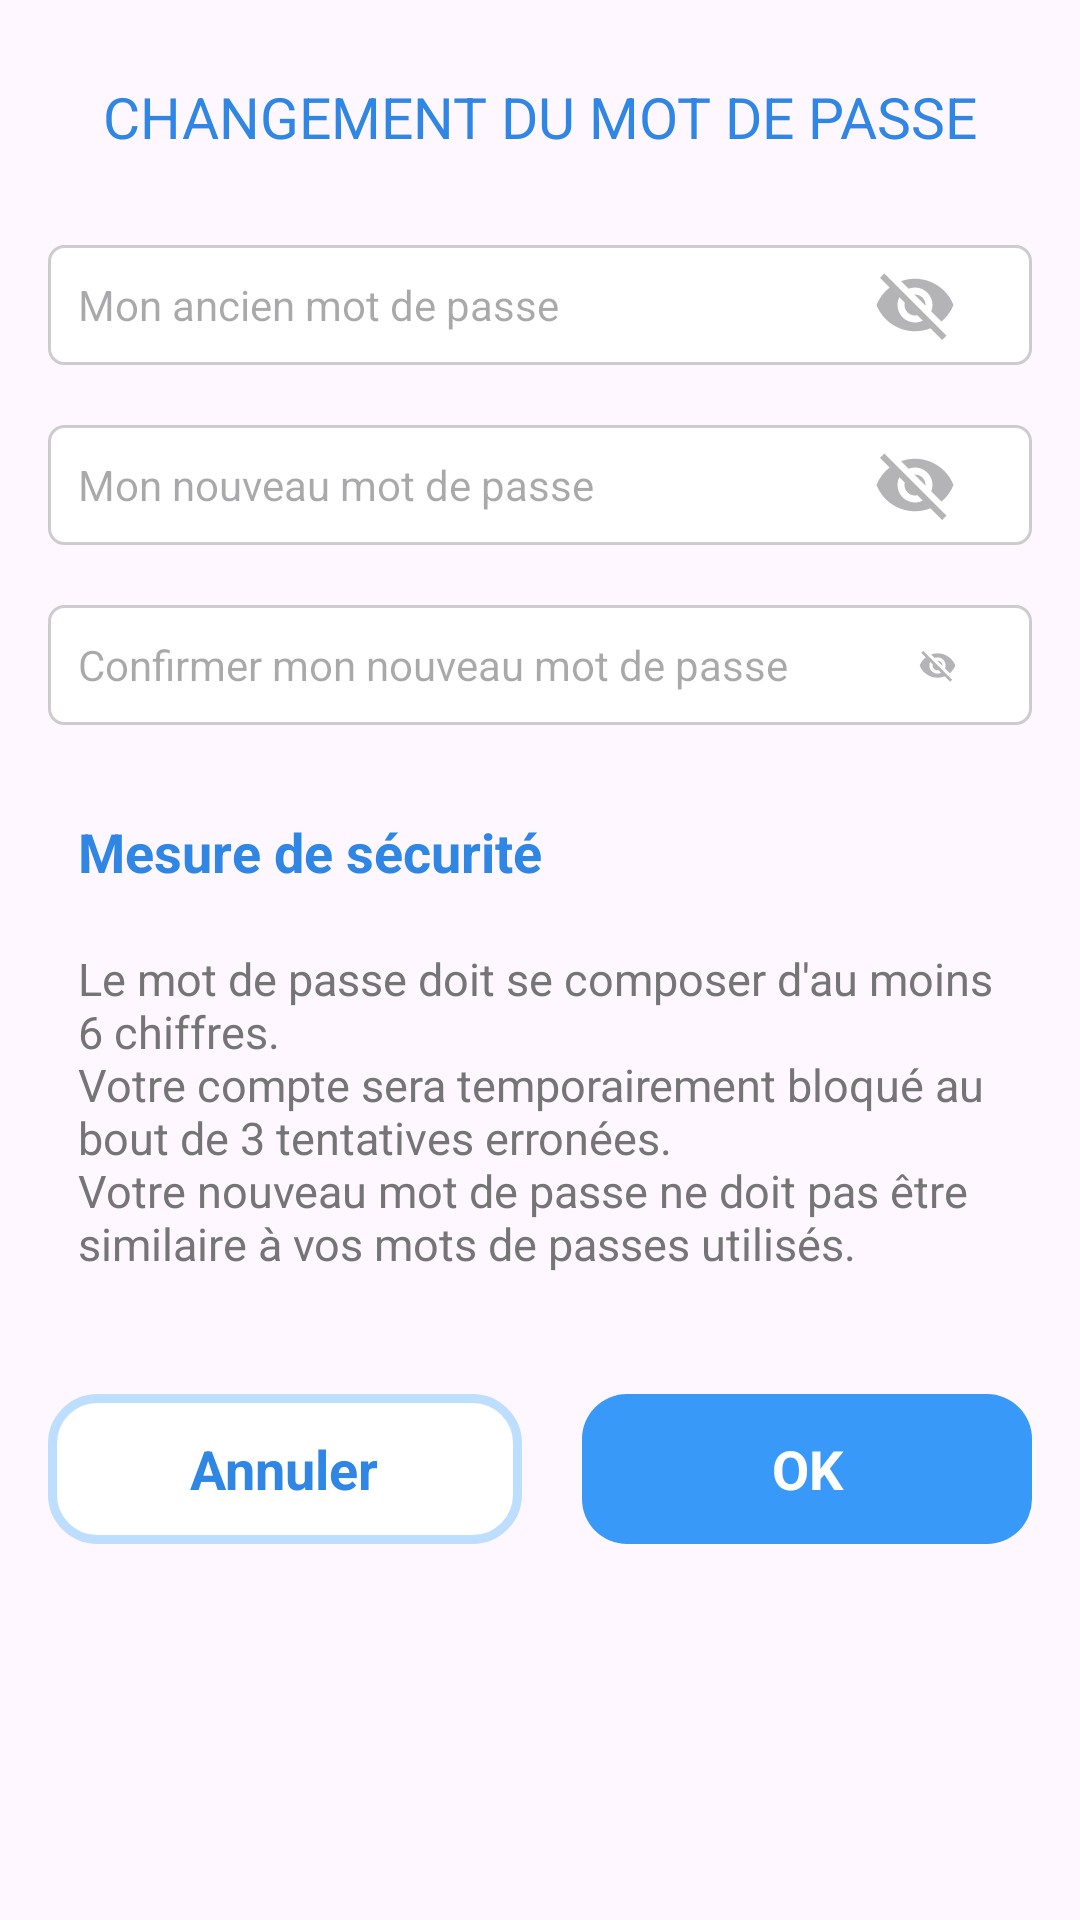

Icon bounding boxes for this 1080w x 1920h phone screenshot, format region(x1, y1, x2, y2):
eye off: region(877, 274, 953, 340), region(877, 454, 953, 520), region(920, 651, 955, 682)
